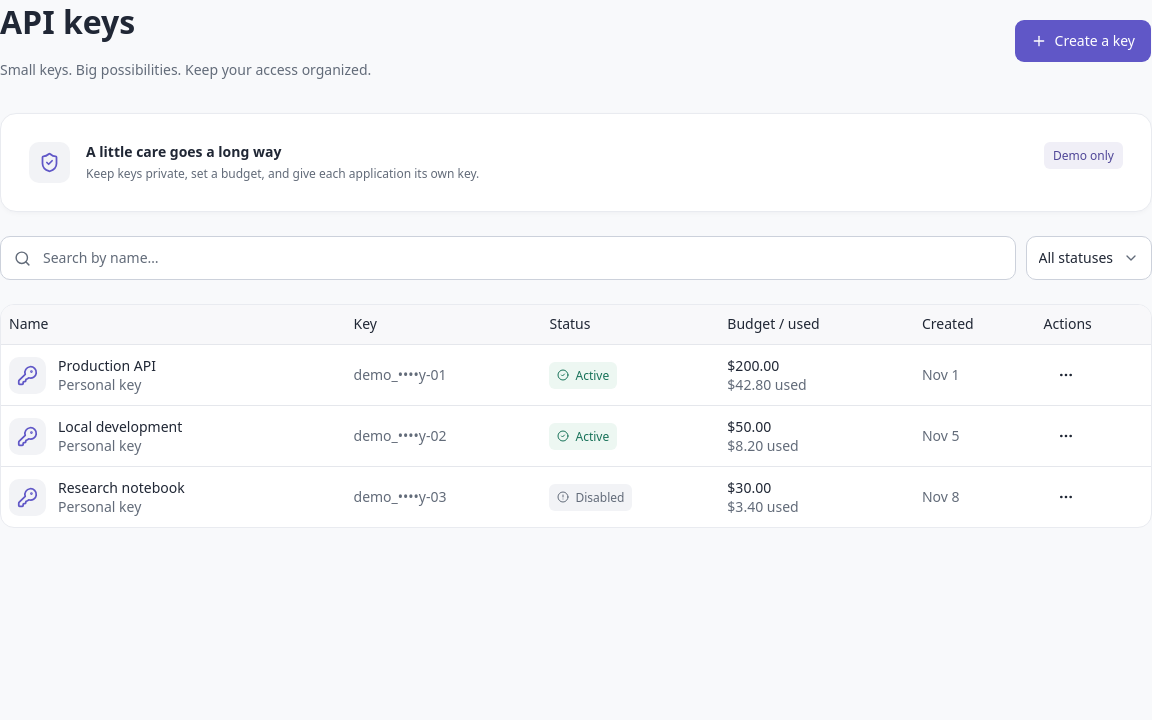
it: Client key management preview › cancelling deletion keeps the key in the list
This screenshot has width=1152, height=720.
Click the button named "Manage Production API" at (1066, 375), box [1044, 353, 1088, 397]
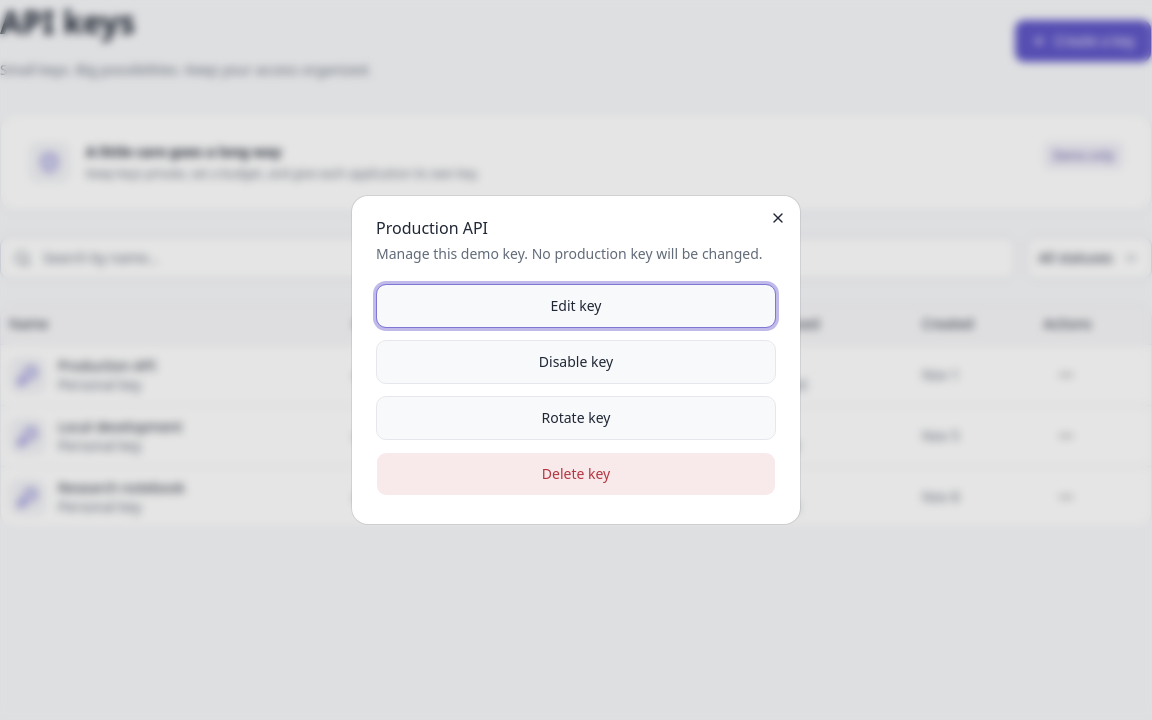
Click the button "Delete key" at (576, 474), box [376, 452, 776, 496]
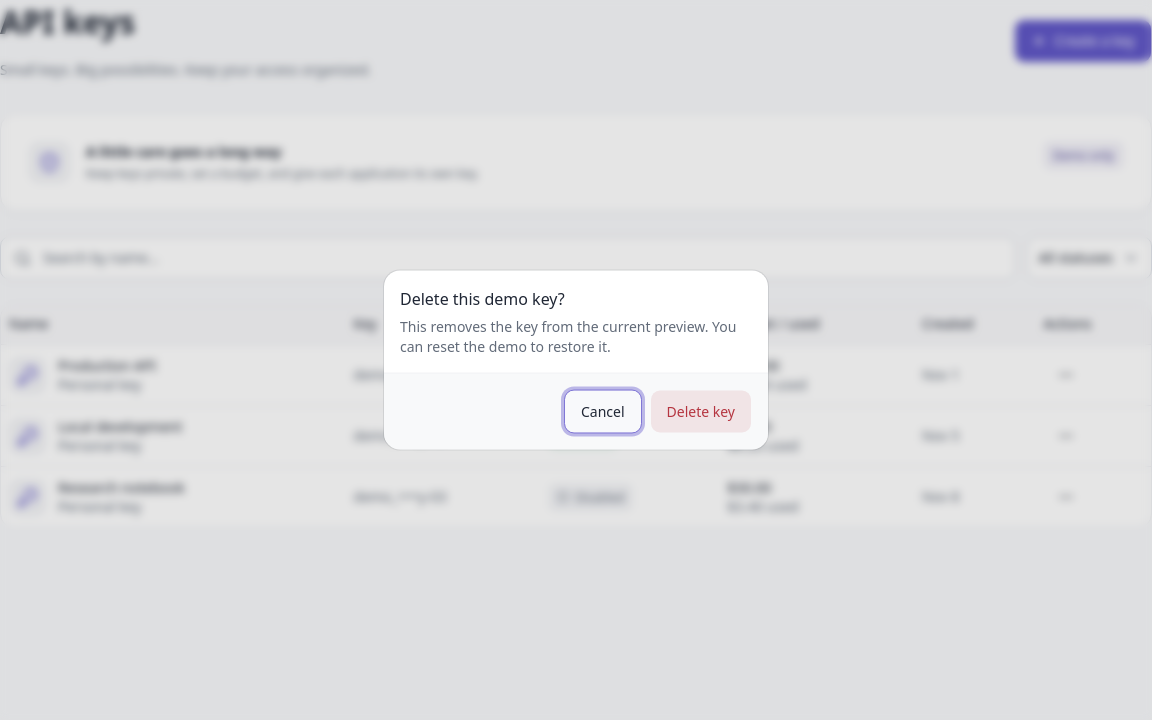
Click the button "Cancel" at (603, 412), box [564, 390, 642, 434]
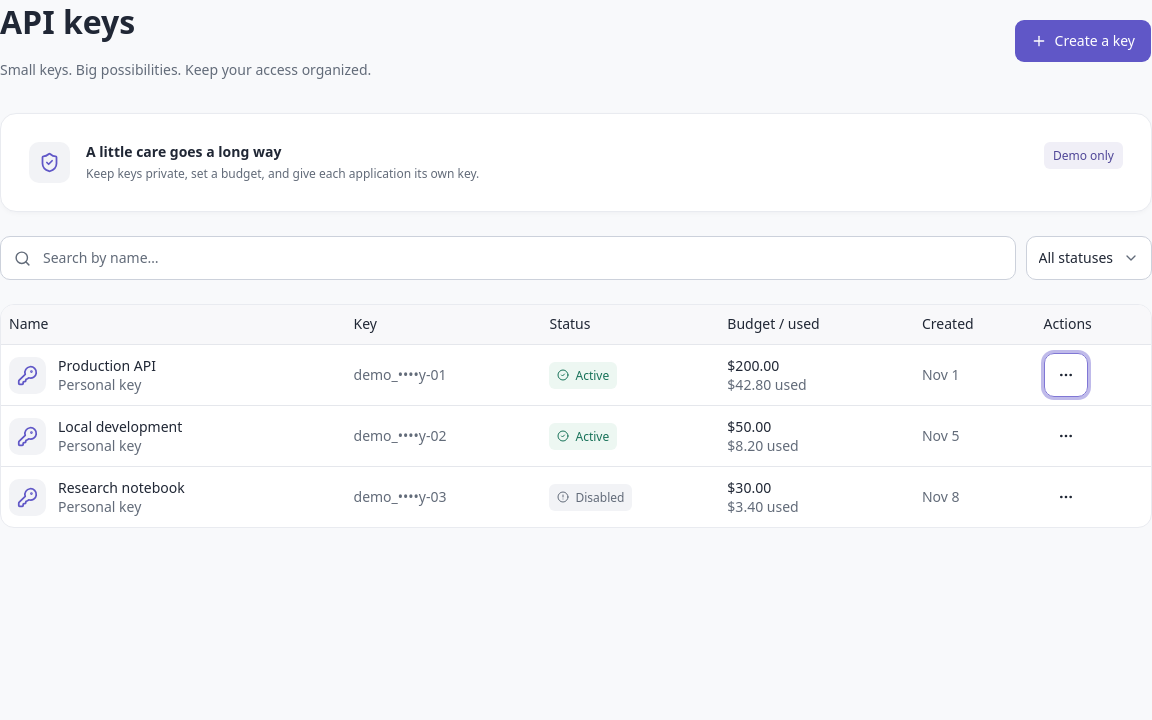
Expected: the text "Production API" is shown, [58, 356, 156, 375]
Result: the dialog is gone
